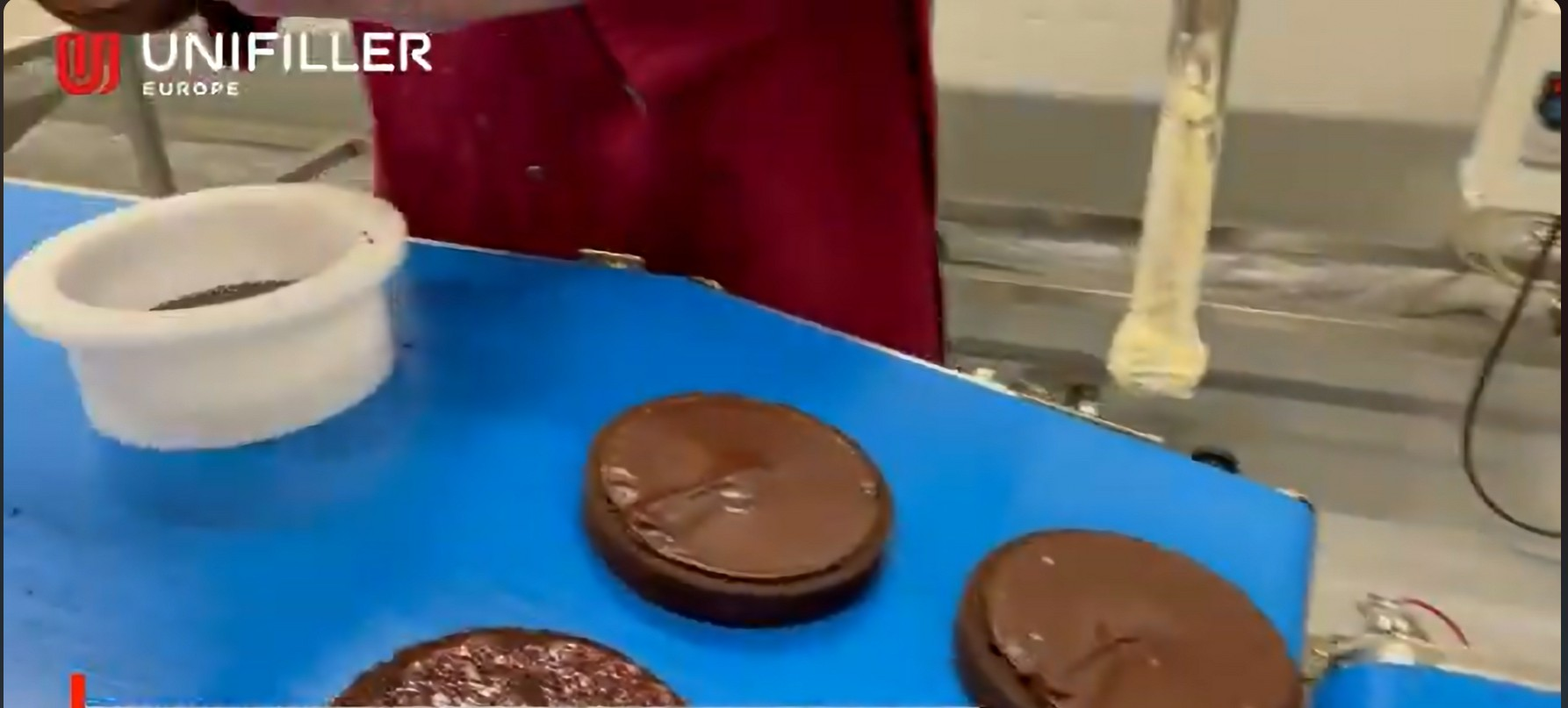Chocolate Coated: (960, 511, 1302, 708), (596, 386, 890, 614), (332, 629, 695, 708)
